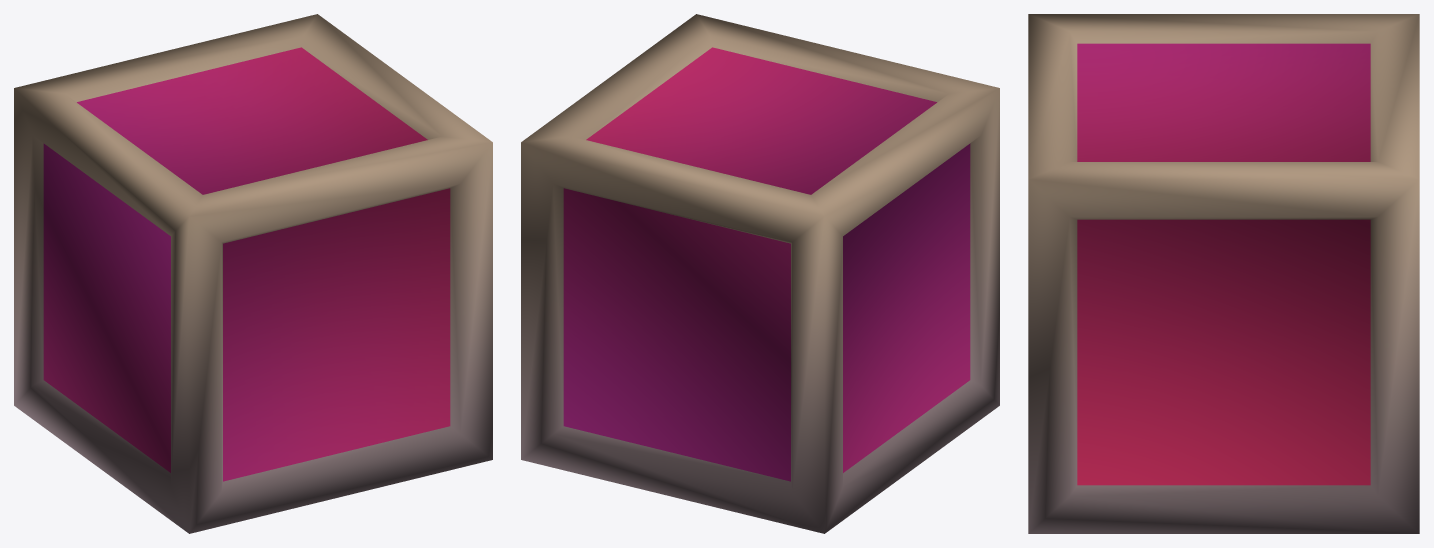
Rendered from Block_Red.fbx.
The picture shows the model from 3 angles, left to right: view 1: azimuth 30°, elevation 25°; view 2: azimuth 150°, elevation 25°; view 3: azimuth 270°, elevation 25°; orthographic projection. The views are drawn at different scales.
Visible parts, largest first — view 1: Block_Red; view 2: Block_Red; view 3: Block_Red.
Boxes of the visible parts, x1,y1,x2,y2 form: Block_Red: (14, 14, 492, 533); Block_Red: (521, 14, 999, 533); Block_Red: (1028, 14, 1419, 533).
Size of the model in its own units: 200 by 200 by 200.
